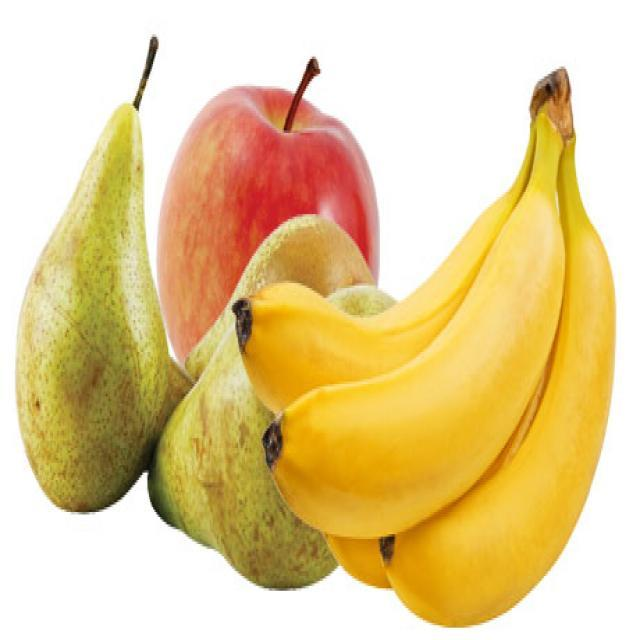apple: (156, 86, 382, 446)
banana: (260, 187, 572, 532), (388, 202, 628, 626), (237, 190, 548, 430)
